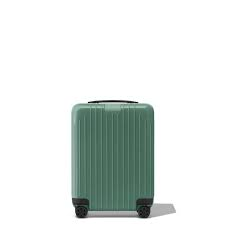suitcase: (68, 98, 157, 218)
